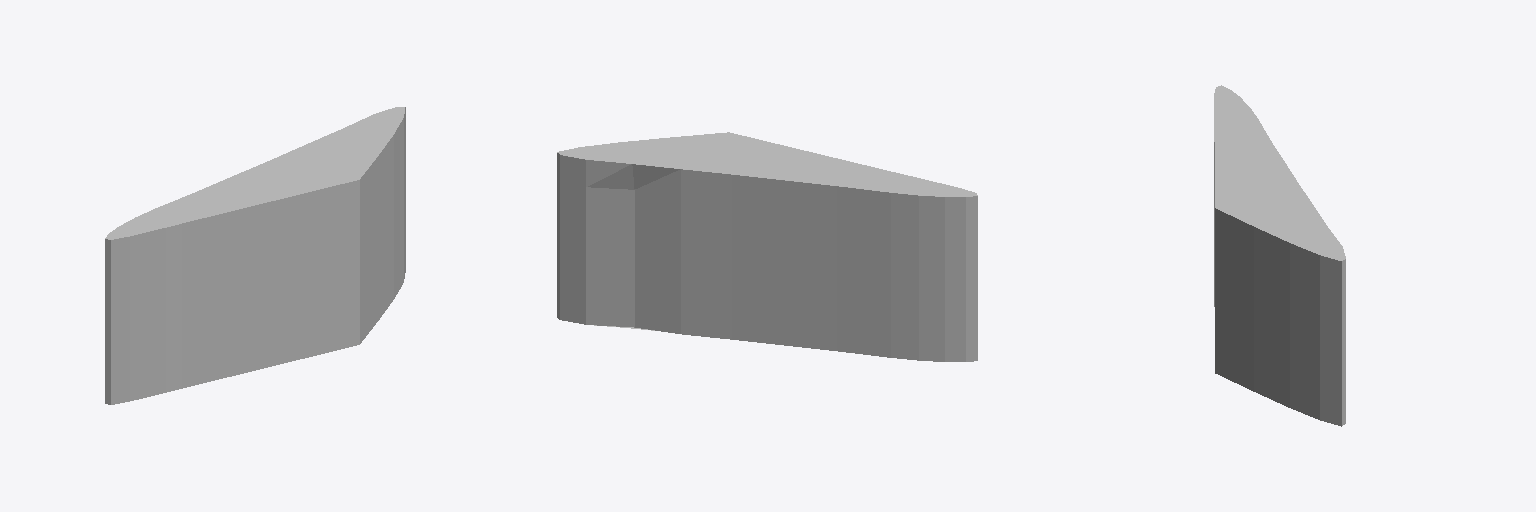
3 renders of one model, left to right at view 1: azimuth 30°, elevation 25°; view 2: azimuth 150°, elevation 25°; view 3: azimuth 270°, elevation 25°, orthographic.
Visible parts, largest first — view 1: Obstaculo_03; view 2: Obstaculo_03; view 3: Obstaculo_03.
Part boxes in pixels (x1,y1,x2,y2): Obstaculo_03: (105,107,405,404); Obstaculo_03: (557,132,977,361); Obstaculo_03: (1214,85,1345,426).
Bounding box in the file's own units: 18.42 × 8.06 × 5.85.